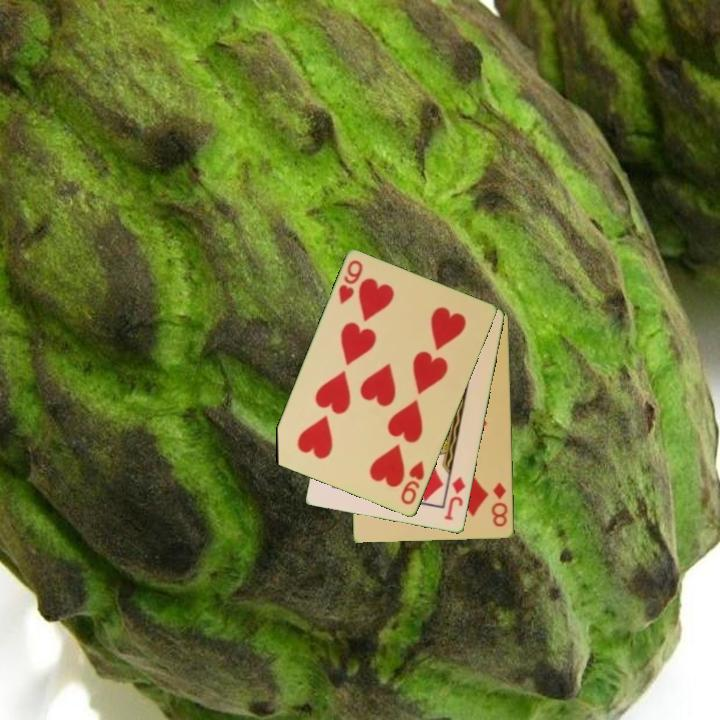8d: (488, 479, 511, 530)
9h: (335, 257, 366, 308), (397, 458, 427, 508)
Jd: (441, 473, 468, 523)
